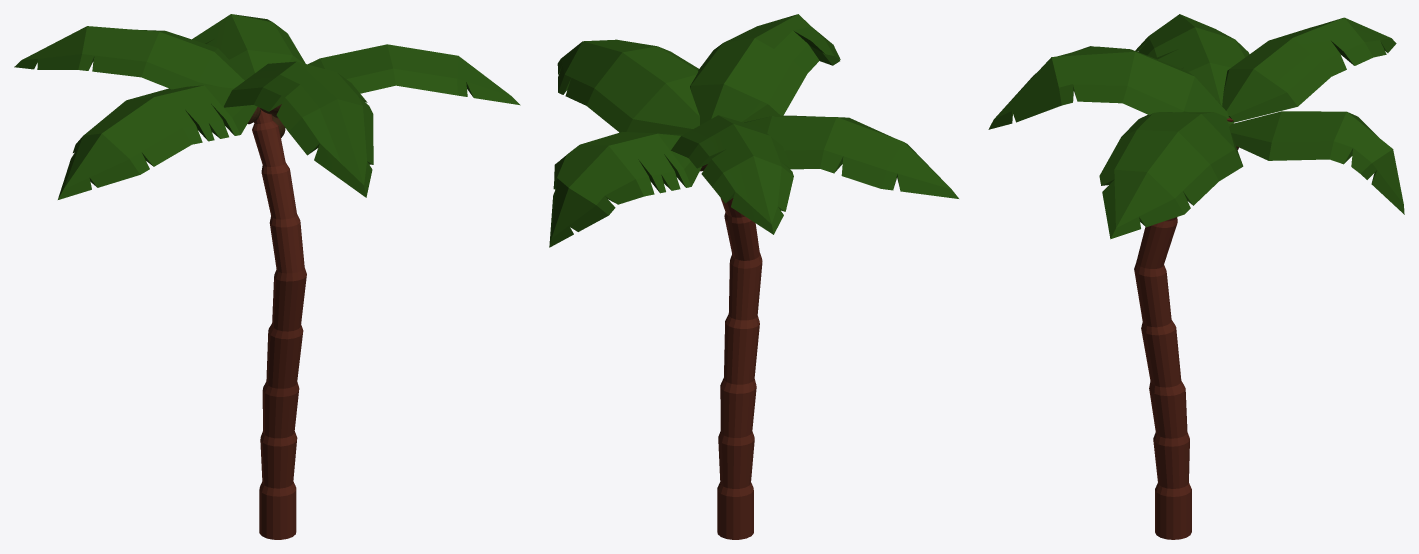
File: palmeirateste.fbx
3 renders of one model, left to right at view 1: azimuth 30°, elevation 25°; view 2: azimuth 150°, elevation 25°; view 3: azimuth 270°, elevation 25°, orthographic.
Parts seen in each view (by area): view 1: vai pro caralho; view 2: vai pro caralho; view 3: vai pro caralho.
Boxes of the visible parts, x1,y1,x2,y2 form: vai pro caralho: (14,14,520,539); vai pro caralho: (549,14,958,539); vai pro caralho: (988,14,1404,539).
Size of the model in its own units: 509 by 609 by 649.
